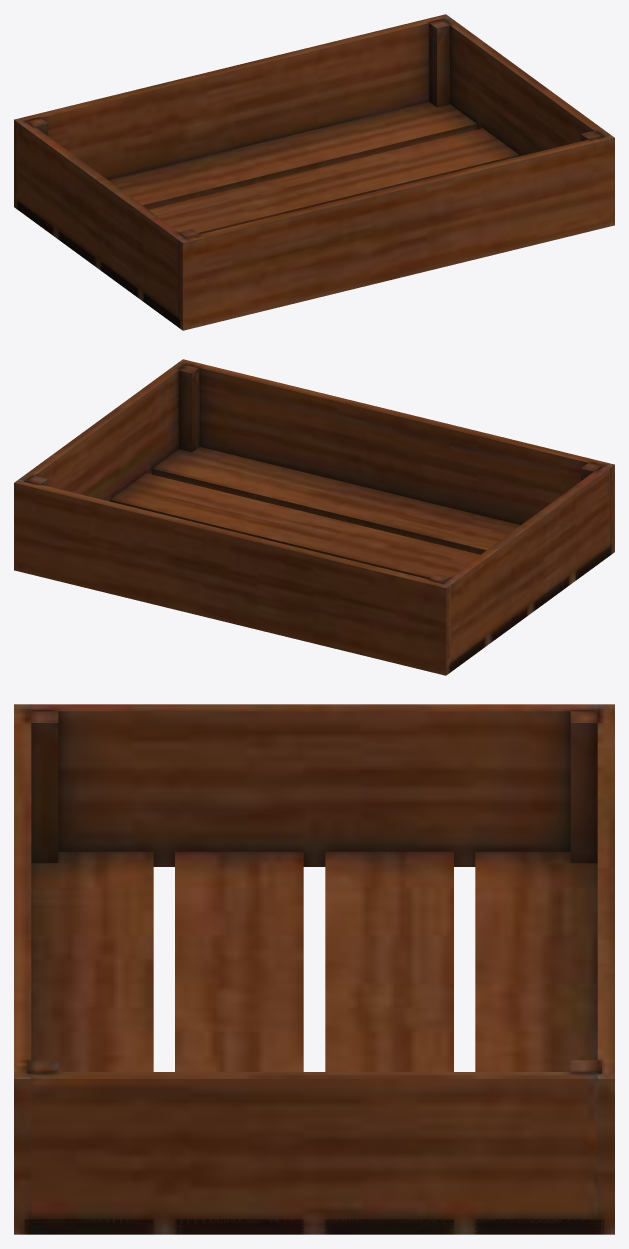
Rendered from bread_tray_lod1_web.glb.
3 renders of one model, top to bottom at view 1: azimuth 30°, elevation 25°; view 2: azimuth 150°, elevation 25°; view 3: azimuth 270°, elevation 25°, orthographic. The views are drawn at different scales.
Visible parts, largest first — view 1: BreadTray_Body; view 2: BreadTray_Body; view 3: BreadTray_Body.
Boxes of the visible parts, box(x1,y1,x2,y2) form: BreadTray_Body: box(14, 14, 614, 330); BreadTray_Body: box(14, 359, 614, 675); BreadTray_Body: box(14, 704, 614, 1234).
Size of the model in its own units: 0.62 by 0.12 by 0.42.
Materials: 1 (1 with a texture image).
